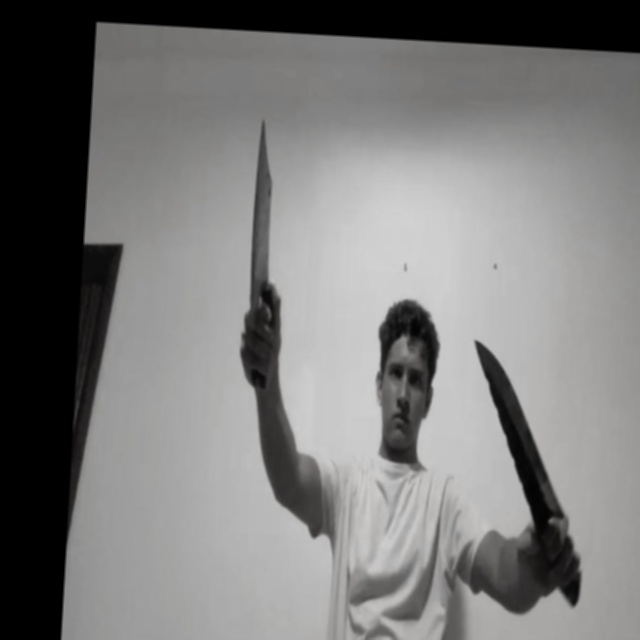Sharp-Object: (465, 337, 573, 526), (248, 119, 278, 316)
